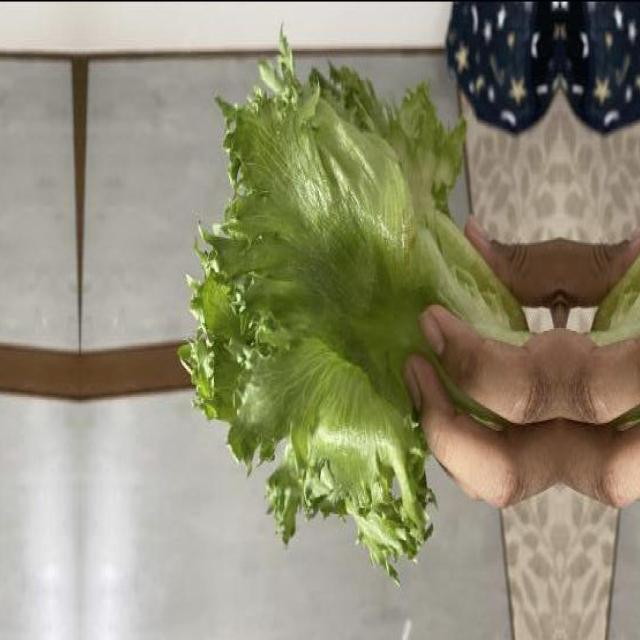healthy: (182, 28, 530, 578), (589, 27, 640, 578)
